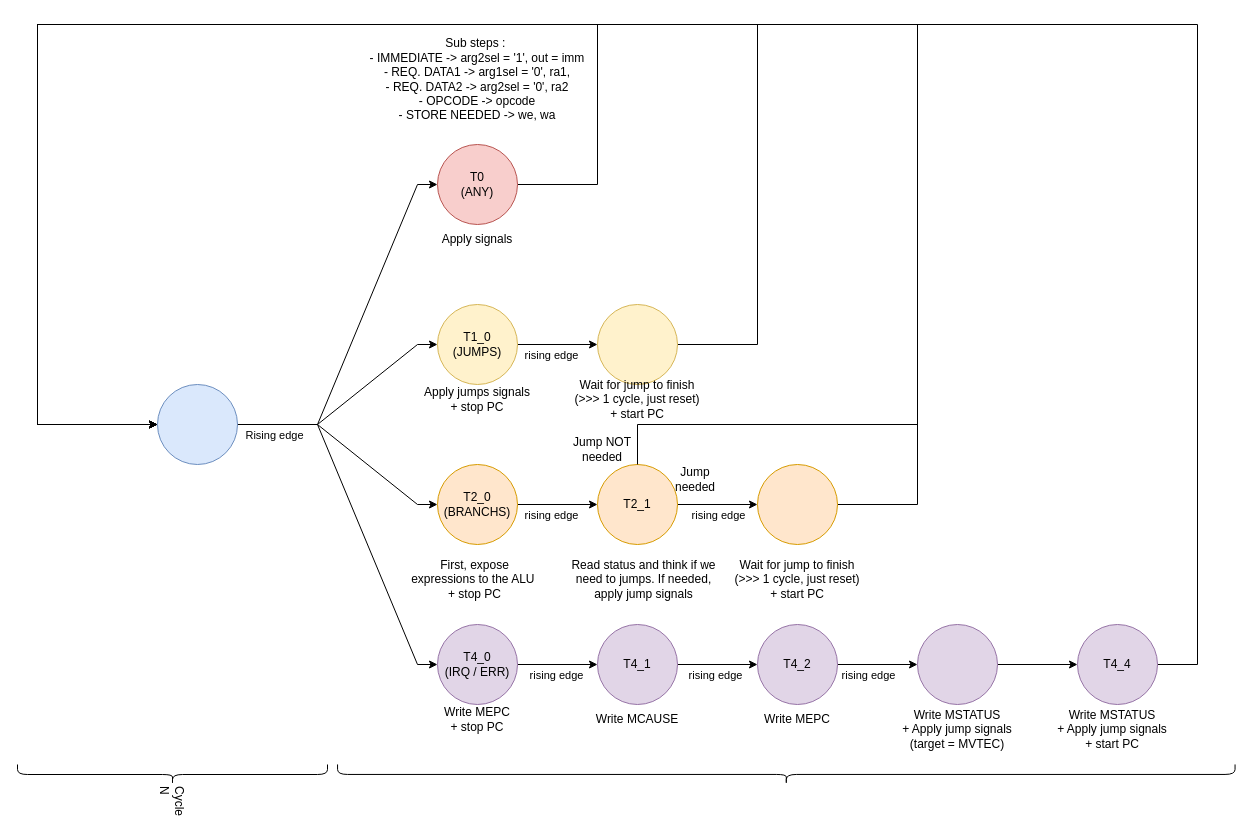
Some shapes in this 1253 by 834 pixel diagram are drawn without their labels. The shapes that lost their labels are listed below. From the top down, each one's box as (x1, y1, x2, y2) in pixels, then its label:
(596, 304, 678, 384): T1_1
(156, 384, 238, 464): Cycle 0
(756, 464, 838, 544): T2_2
(916, 624, 998, 704): T4_3
(336, 764, 1235, 784): Cycle N + x
